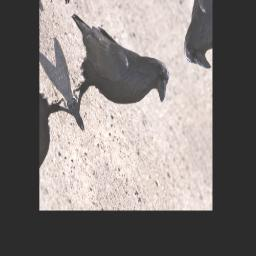Crow: (42, 0, 179, 152)
